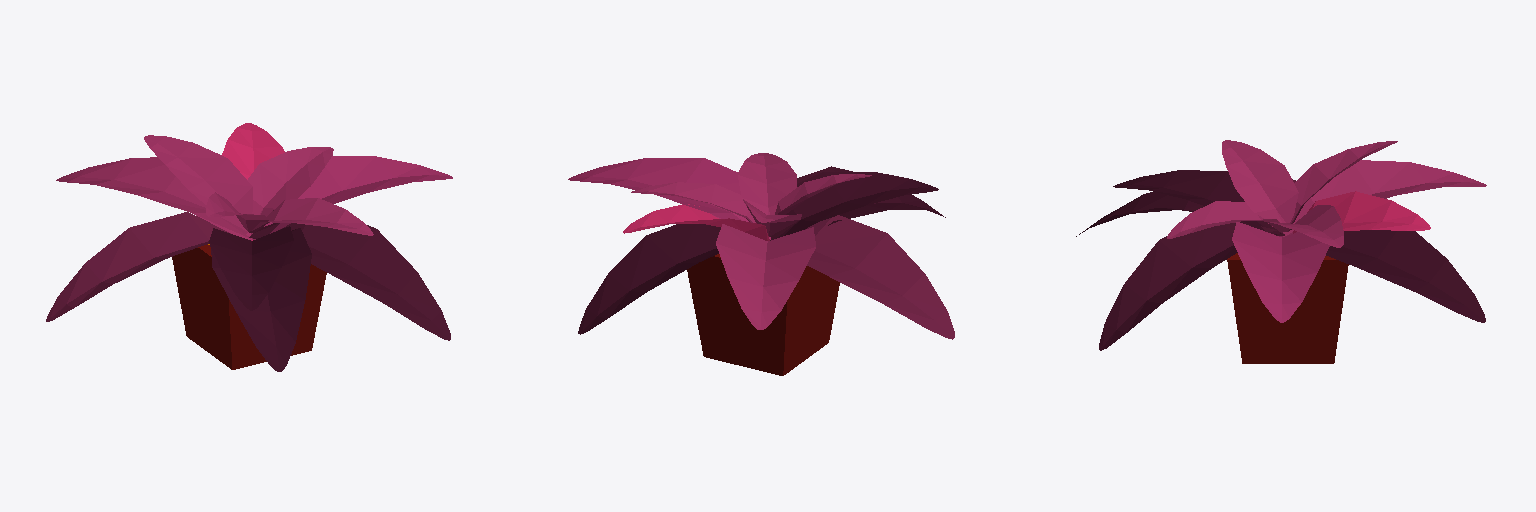
Rendered from plante-violette.obj.
3 views of the same model, side by side, from view 1: azimuth 30°, elevation 25°; view 2: azimuth 150°, elevation 25°; view 3: azimuth 270°, elevation 25° (orthographic).
Parts seen in each view (by area): view 1: Plan.008, Cube, Plan.004, Plan.007, Plan.003, Plan.010, Plan.006, Plan.001, Plan.011, Plan.005, Plan.002, Plan.012; view 2: Cube, Plan.004, Plan.010, Plan.009, Plan.001, Plan.006, Plan.005, Plan.002, Plan.011, Plan.007, Plan.012, Plan.003; view 3: Cube, Plan.008, Plan.009, Plan.001, Plan.010, Plan.012, Plan.006, Plan.002, Plan.003, Plan.005, Plan.011, Plan.007.
Part boxes in pixels (x1,y1,x2,y2): Plan.008: (249,223,450,340); Cube: (172,244,326,369); Plan.004: (46,212,230,321); Plan.007: (211,228,311,371); Plan.003: (144,135,252,234); Plan.010: (56,157,252,240); Plan.006: (209,226,293,310); Plan.001: (251,156,452,239); Plan.011: (247,147,333,233); Plan.005: (252,198,373,235); Plan.002: (222,123,284,240); Plan.012: (206,192,271,233); Cube: (687,254,839,375); Plan.004: (805,215,954,339); Plan.010: (716,224,815,329); Plan.009: (578,224,720,334); Plan.001: (568,158,770,239); Plan.006: (770,172,938,240); Plan.005: (737,153,796,214); Plan.002: (623,204,769,240); Plan.011: (631,182,755,222); Plan.007: (797,166,945,225); Plan.012: (769,174,871,236); Plan.003: (743,199,801,237); Cube: (1227,253,1348,363); Plan.008: (1099,223,1284,350); Plan.009: (1326,230,1485,322); Plan.001: (1232,222,1329,322); Plan.010: (1279,160,1486,236); Plan.012: (1222,140,1298,232); Plan.006: (1113,170,1276,230); Plan.002: (1293,191,1430,233); Plan.003: (1287,141,1397,231); Plan.005: (1167,201,1279,238); Plan.011: (1267,205,1343,247); Plan.007: (1076,192,1244,236).
Size of the model in its own units: 7.48 by 3.26 by 6.79.